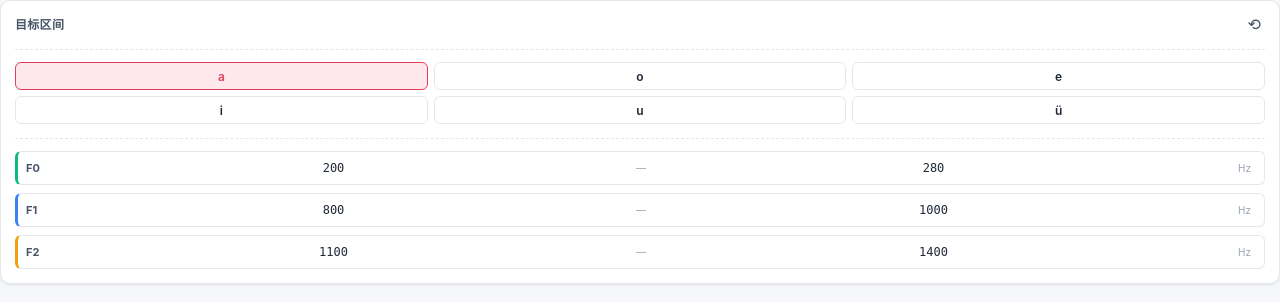
TargetPresetBar › explains a cross-formant correction on desktop
Replace the text in the number field named "F1上限" with "1200" at (941, 210), box [652,199,1230,221]
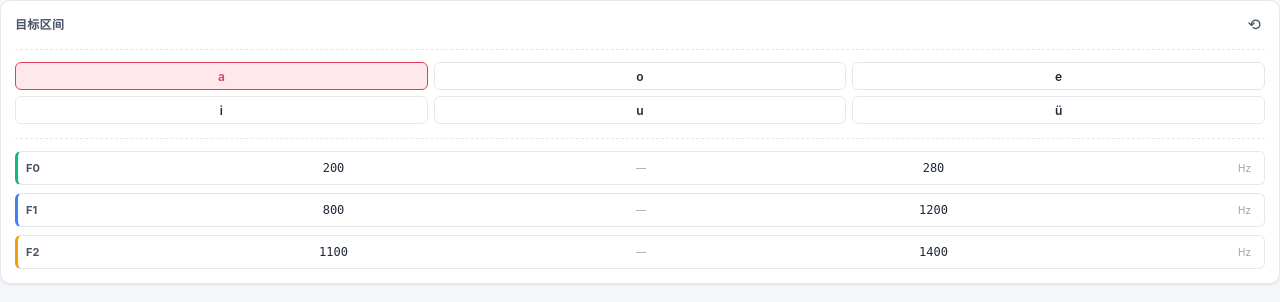
Leave the number field named "F1上限", box [652,199,1230,221]
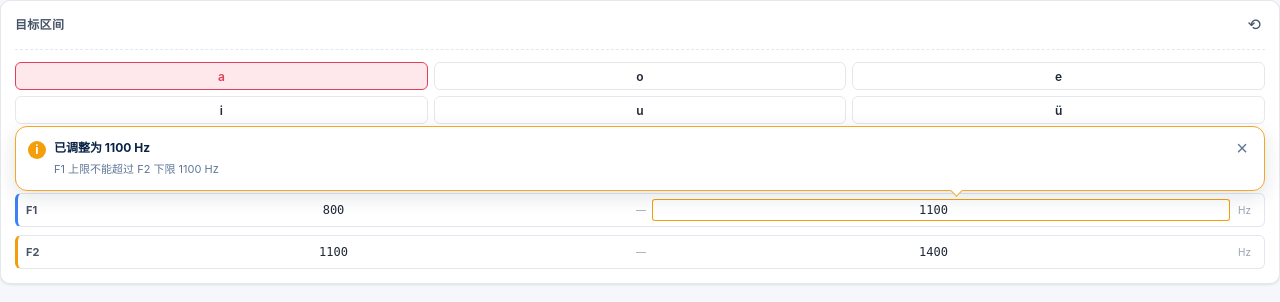
Now the message shows "F2 下限", box [54,162,219,176]
